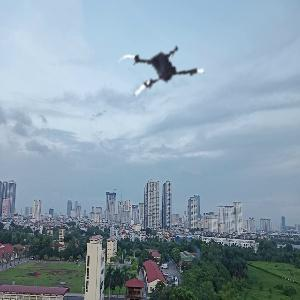drone: (115, 30, 206, 121)
